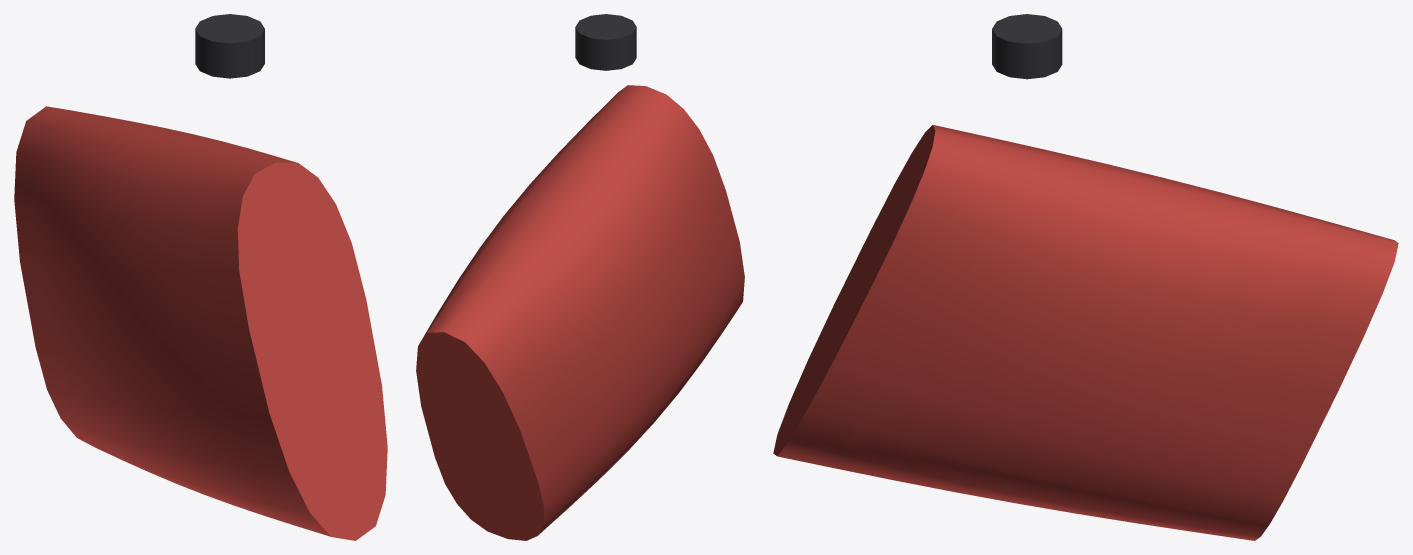
The model's file is side_tank.glb.
3 renders of one model, left to right at view 1: azimuth 30°, elevation 25°; view 2: azimuth 150°, elevation 25°; view 3: azimuth 270°, elevation 25°, orthographic. The views are drawn at different scales.
Visible parts, largest first — view 1: lod0; view 2: lod0; view 3: lod0.
Boxes of the visible parts, box(x1,y1,x2,y2) form: lod0: box(14, 14, 387, 540); lod0: box(416, 14, 744, 540); lod0: box(773, 14, 1398, 540).
Size of what is drawn, in the model's own units: 0.1 by 0.2846 by 0.3193.
